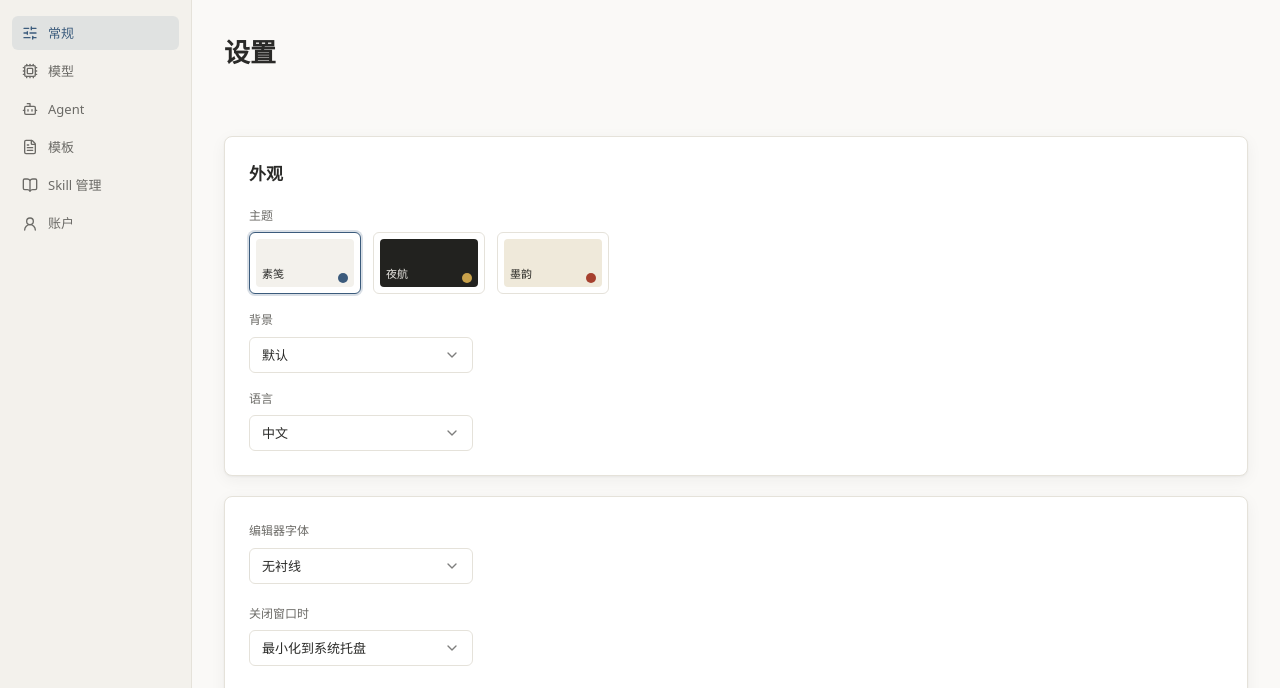
Test: 设置页 — 模板分类（#107 RED 契约） › 删除被引用模板 → 取消 → 不发 DELETE、列表不变
Step 1. Click the button "模板" → (96, 147), box x1=12 y1=130 x2=179 y2=164
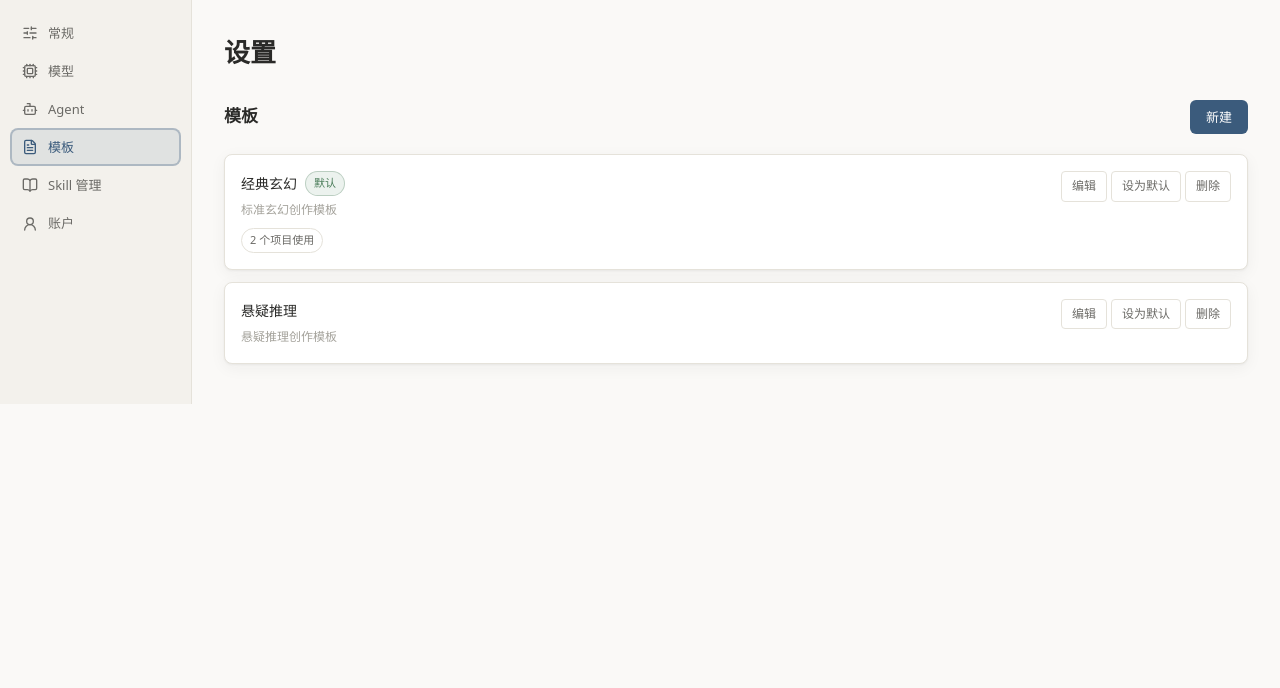
Step 2. Click the button with test id "template-delete-1" → (1208, 186), box x1=1185 y1=171 x2=1231 y2=202
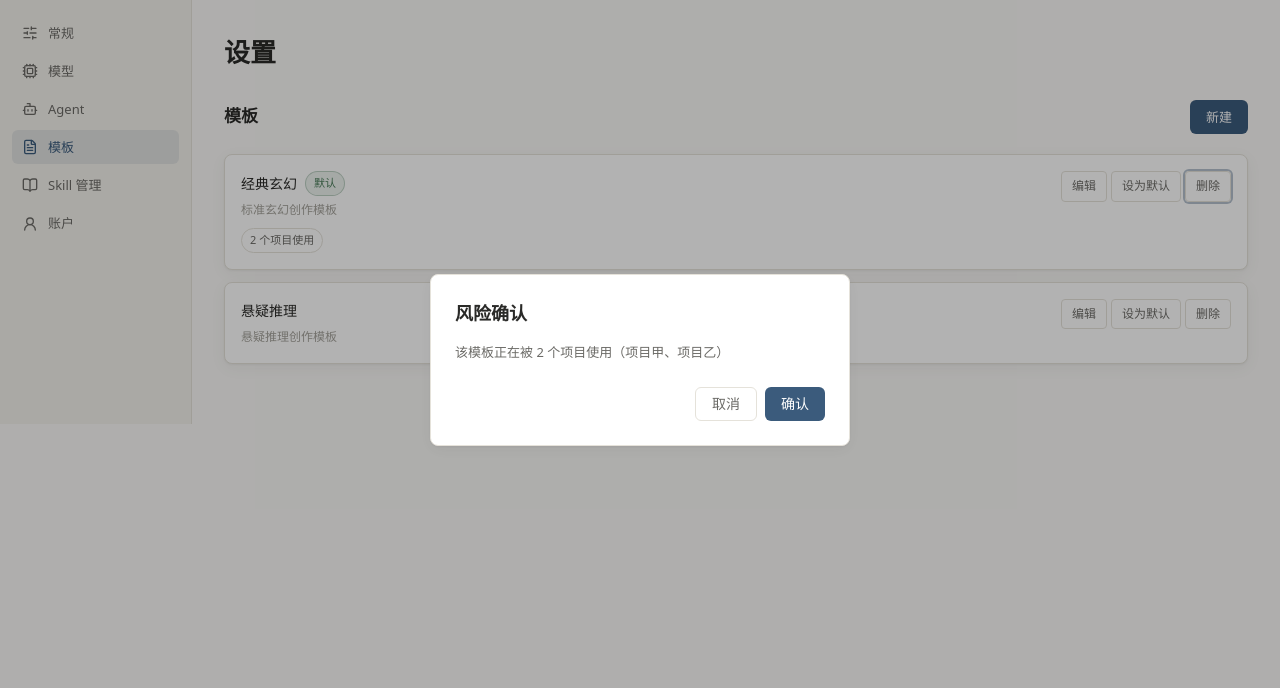
Step 3. Click the button with test id "template-confirm-cancel" → (726, 404), box x1=695 y1=387 x2=757 y2=421
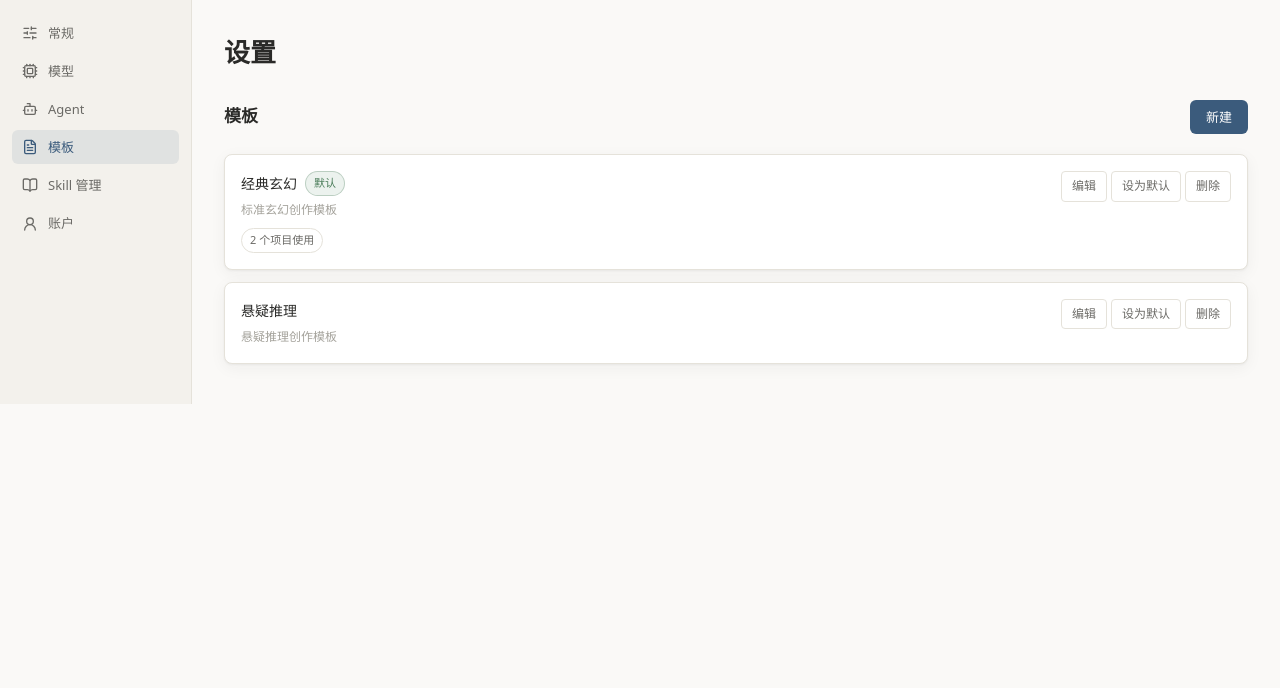
Now the element with test id "template-card-1" is shown, box x1=224 y1=154 x2=1248 y2=270
Now the dialog with test id "template-confirm-dialog" is gone
